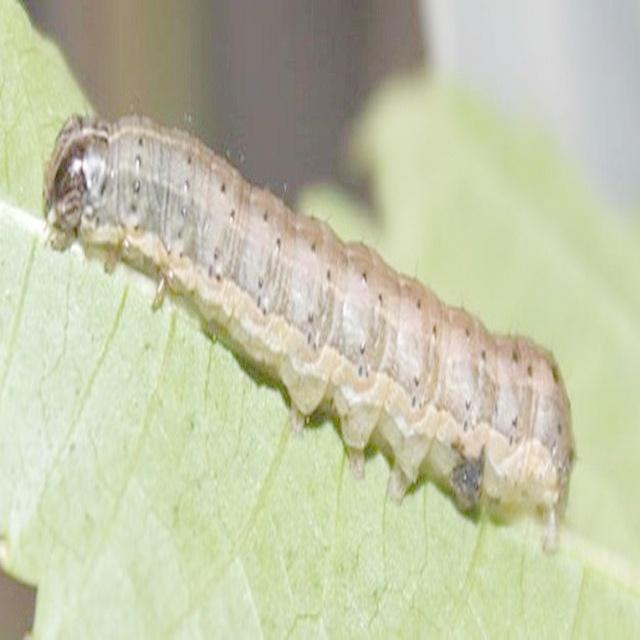gusano_cogollero: (36, 103, 576, 565)
